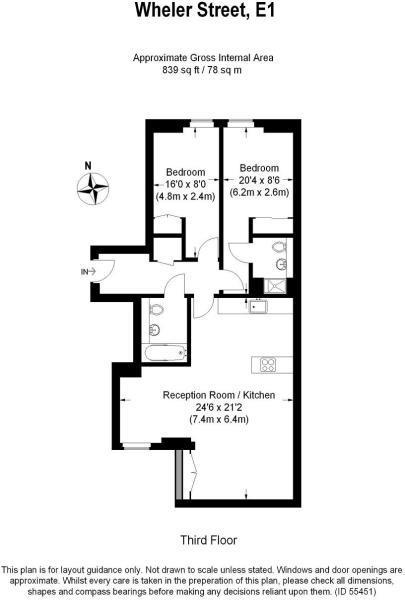GrossArea: (132, 52, 277, 76)
